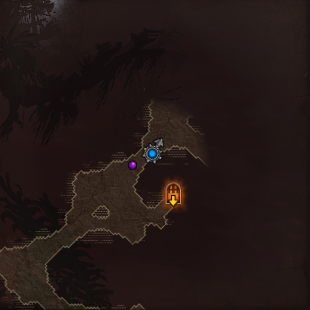Exit: (164, 179, 184, 207)
